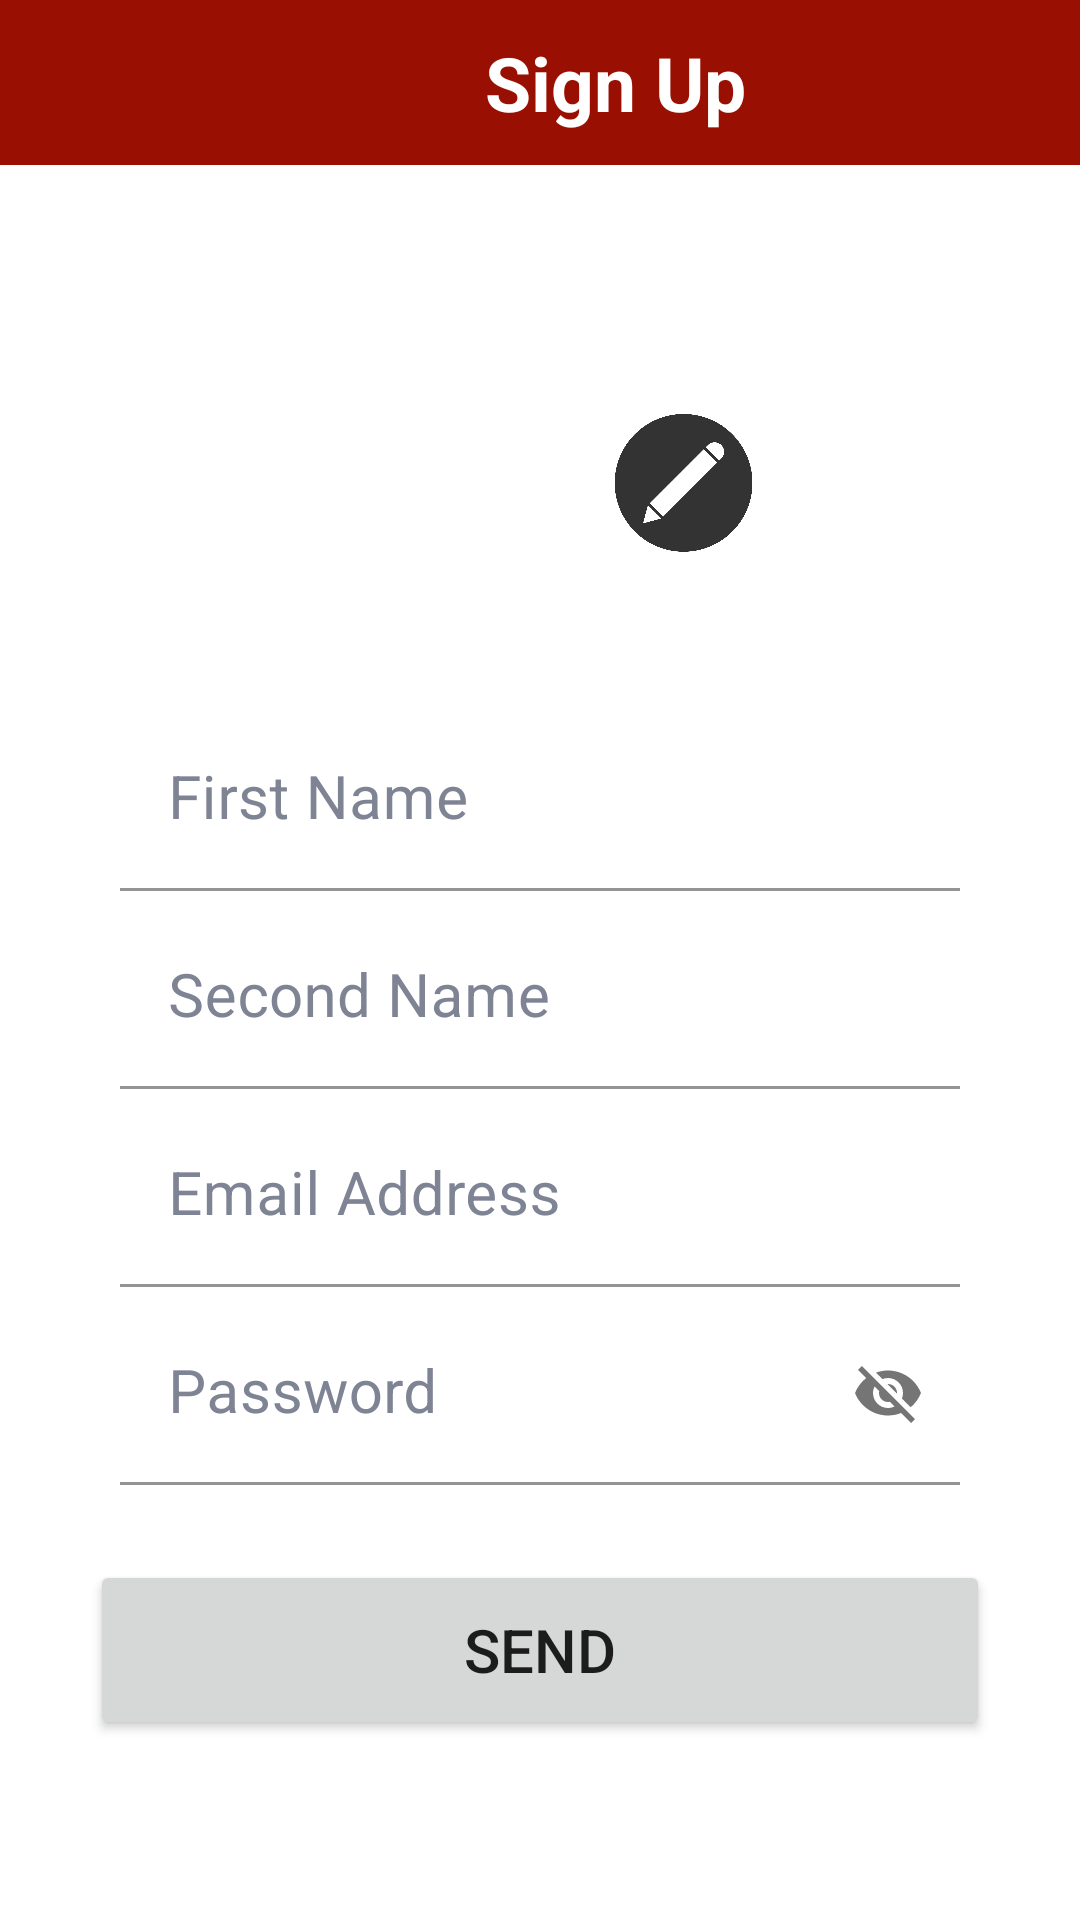

Named icons in this screenshot (1080 x 1920) and their centers, (x=x, y=y):
pencil: (x=683, y=483)
